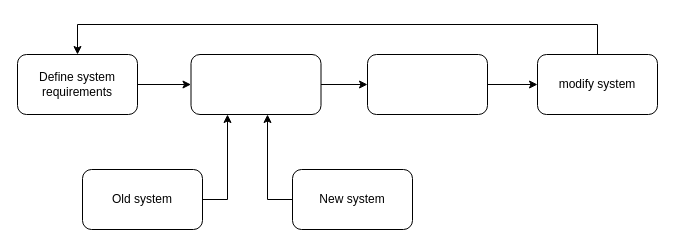
Some shapes in this 675 by 247 pixel diagram are drawn without their labels. Here are the shapes that lost their labels. From the top down, the centre of each, then its label:
At (x=255, y=84): "Assess existing systems(old and new)".
At (x=427, y=84): "prospone system changes".
